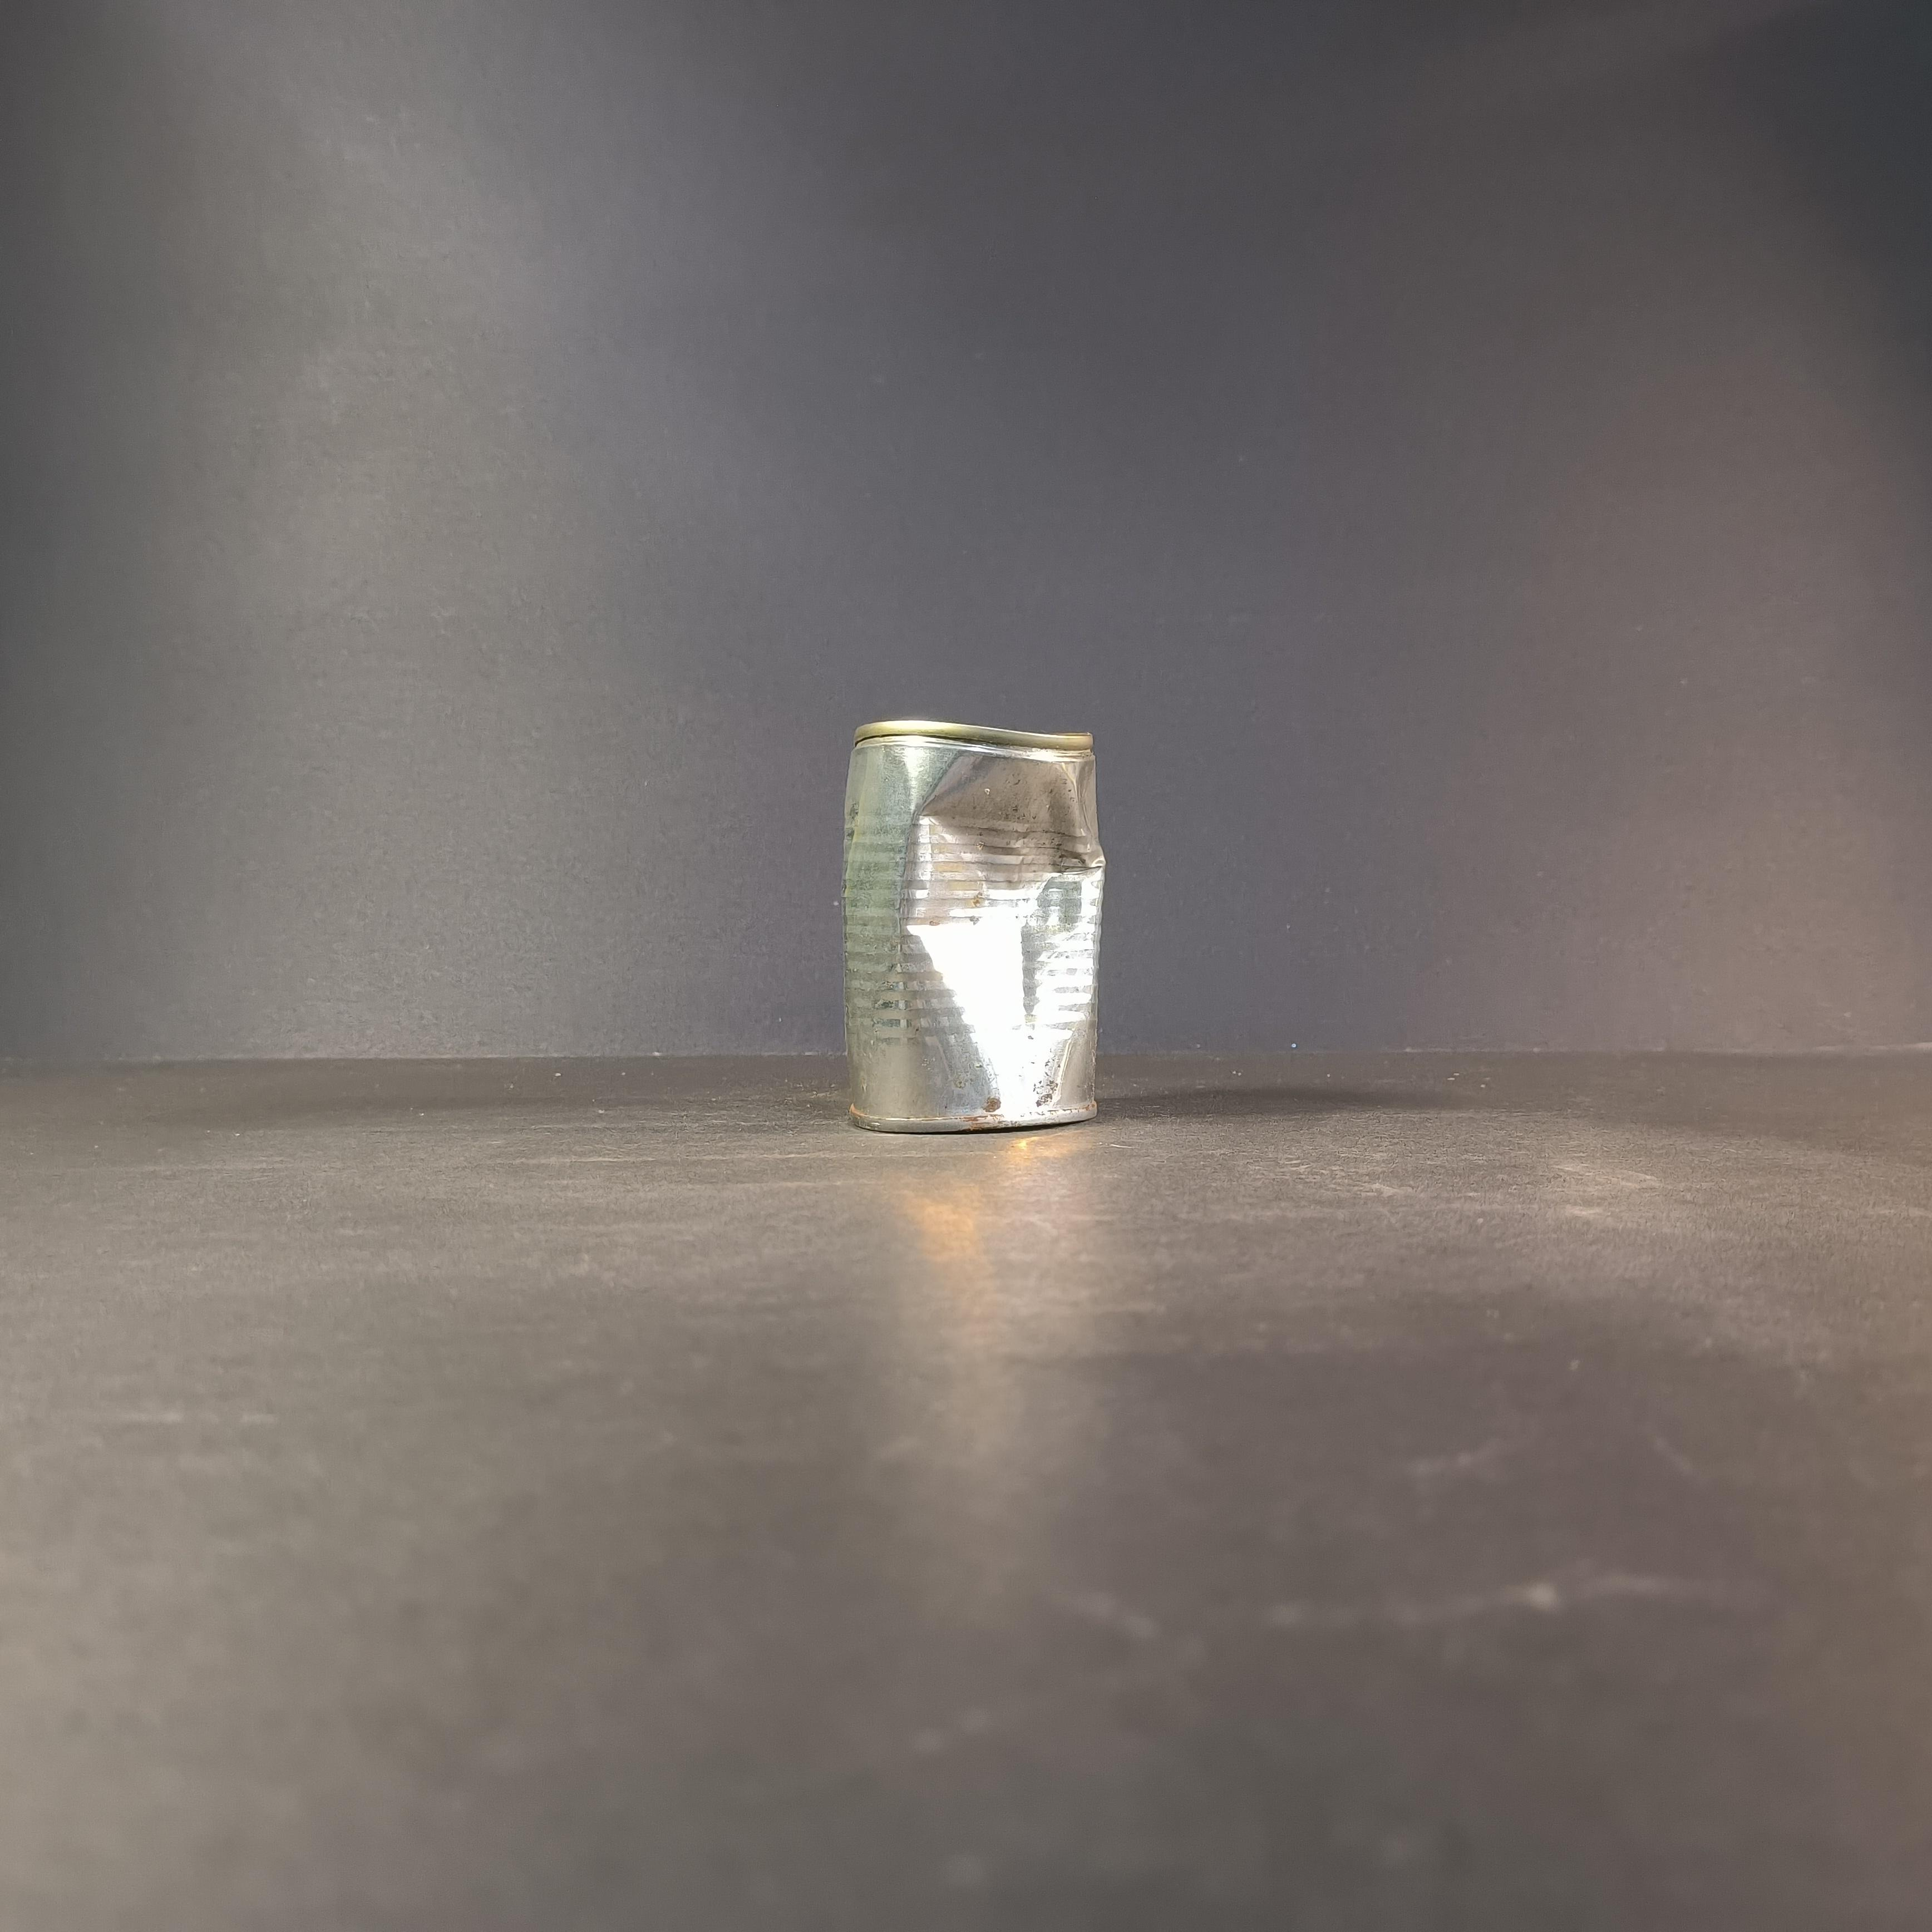Dented: (823, 695, 1122, 1152)
